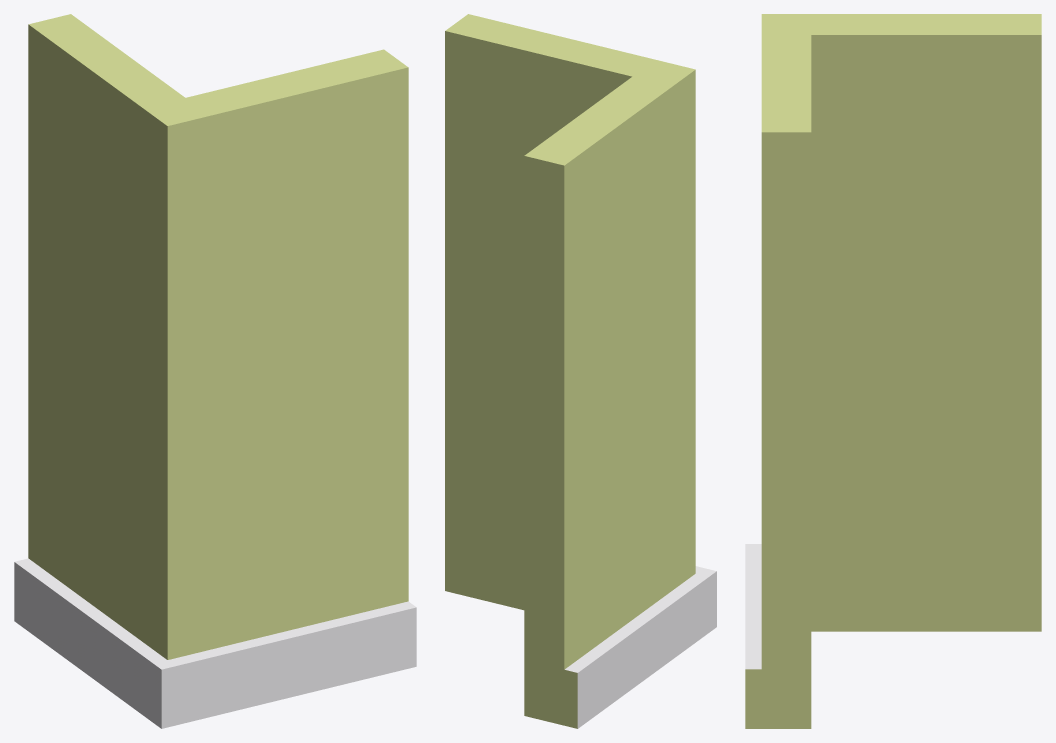
Rendered from WallCornerInverse.glb.
3 views of the same model, side by side, from view 1: azimuth 30°, elevation 25°; view 2: azimuth 150°, elevation 25°; view 3: azimuth 270°, elevation 25° (orthographic). The views are drawn at different scales.
Visible parts, largest first — view 1: WallCorner.003; view 2: WallCorner.003; view 3: WallCorner.003.
Boxes of the visible parts, x1=… form: WallCorner.003: x1=14, y1=14, x2=416, y2=728; WallCorner.003: x1=445, y1=14, x2=716, y2=728; WallCorner.003: x1=745, y1=14, x2=1041, y2=728.
Size of the model in its own units: 18 by 40 by 18.
